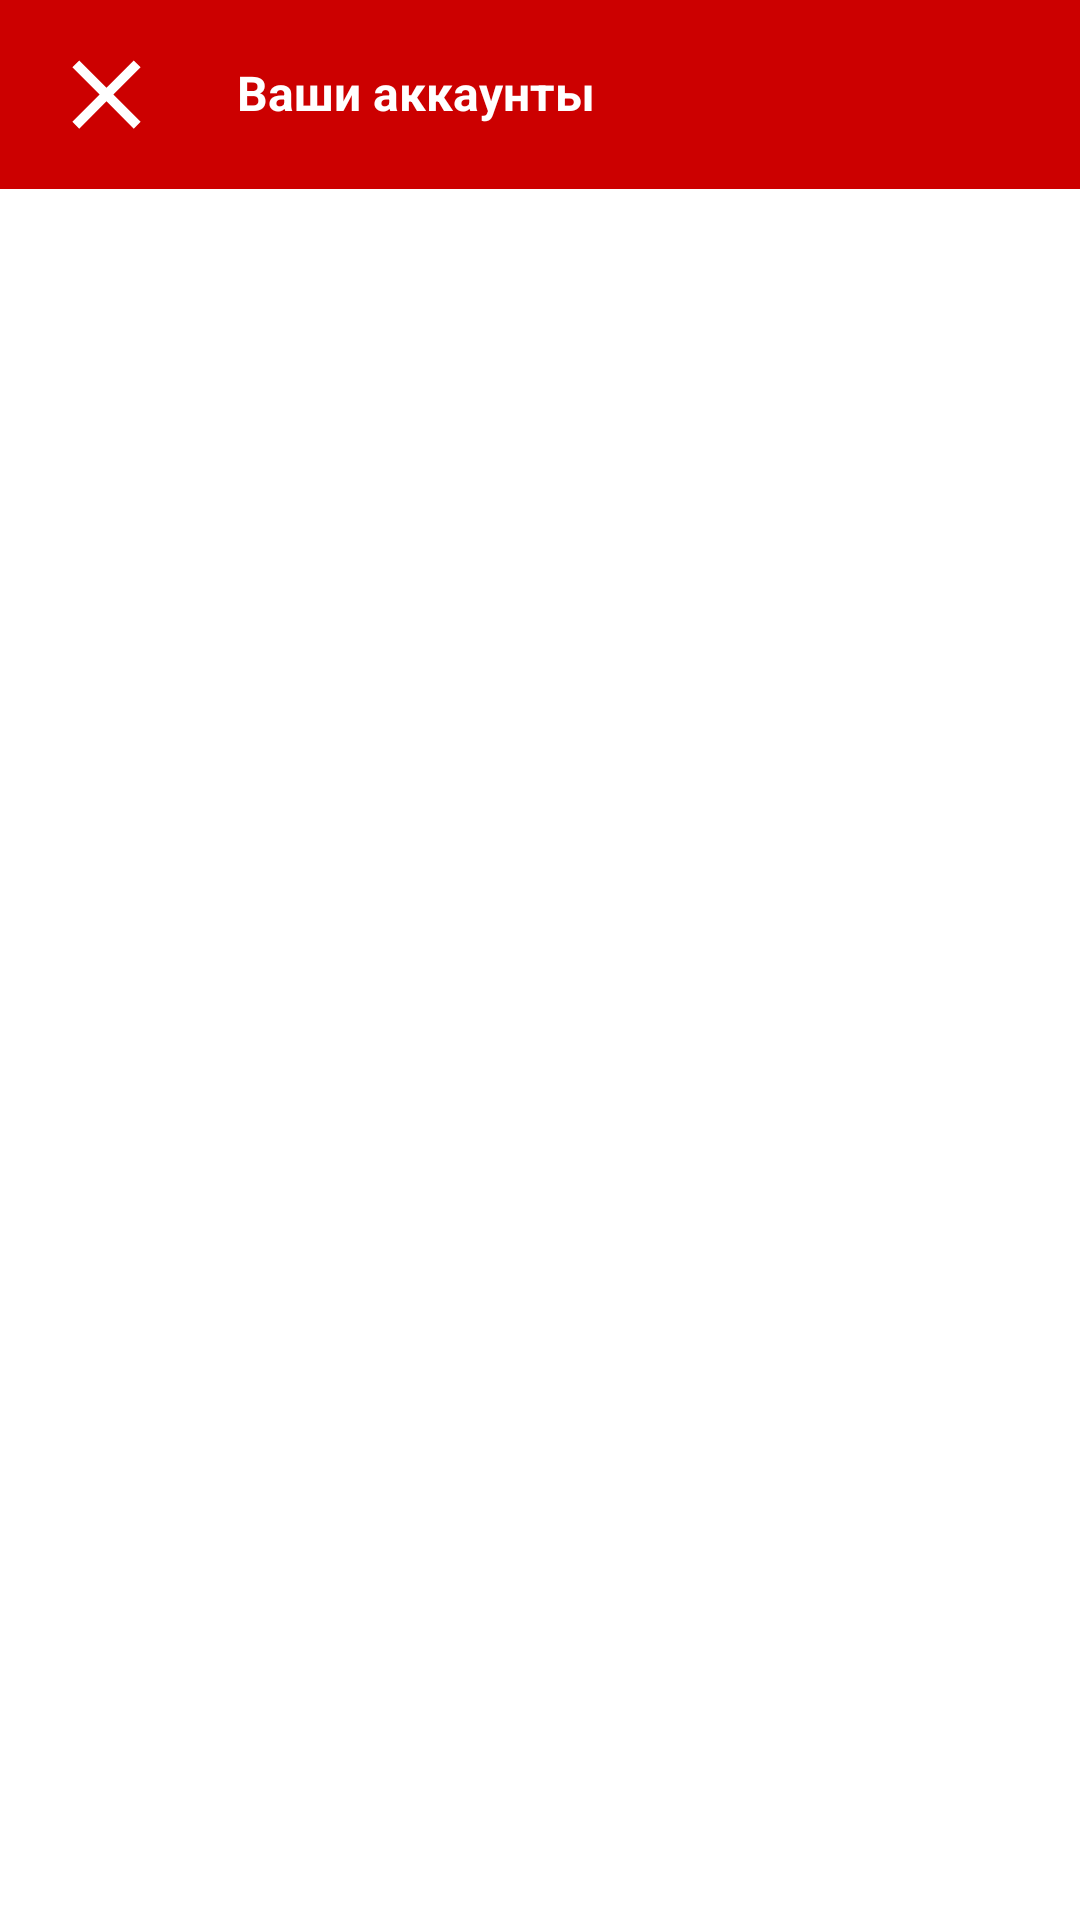

Named icons in this screenshot (1080x1920) and their centers, point (x, y):
close: point (106, 94)
